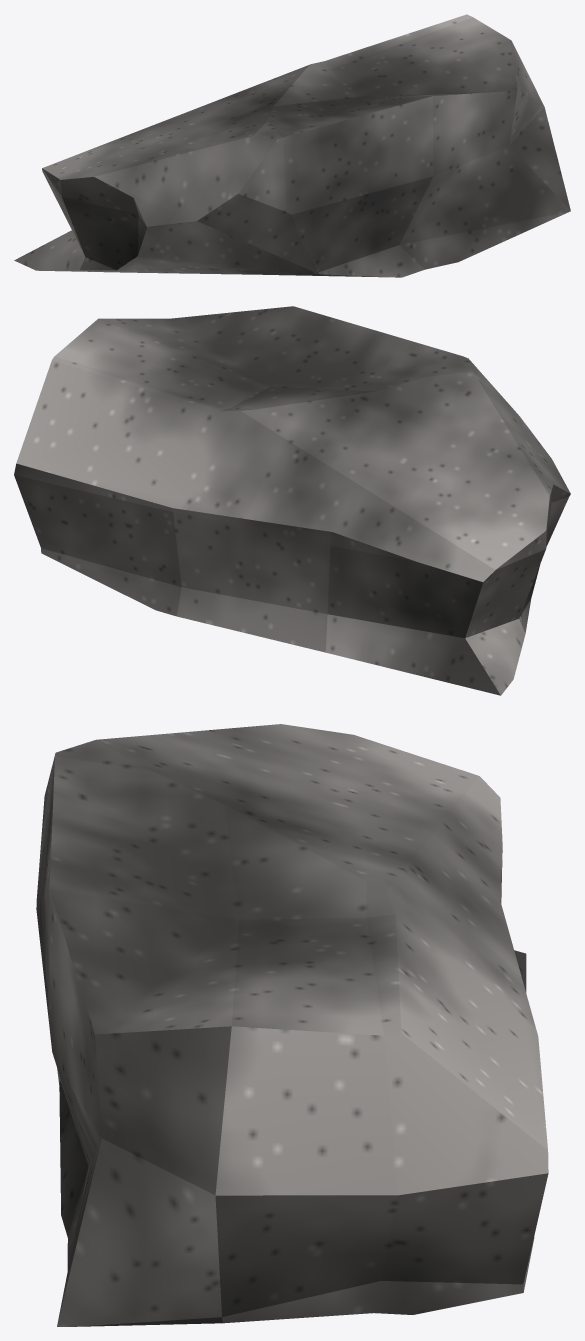
Rendered from rock_large_01.glb.
The picture shows the model from 3 angles, top to bottom: view 1: azimuth 30°, elevation 25°; view 2: azimuth 150°, elevation 25°; view 3: azimuth 270°, elevation 25°; orthographic projection. The views are drawn at different scales.
Parts seen in each view (by area): view 1: rock_large_1; view 2: rock_large_1; view 3: rock_large_1.
Boxes of the visible parts, x1,y1,x2,y2 form: rock_large_1: [14, 14, 570, 277]; rock_large_1: [14, 306, 570, 695]; rock_large_1: [36, 724, 548, 1326].
Bounding box in the file's own units: 13.63 × 5.27 × 6.68.
1 material, 1 textured.
